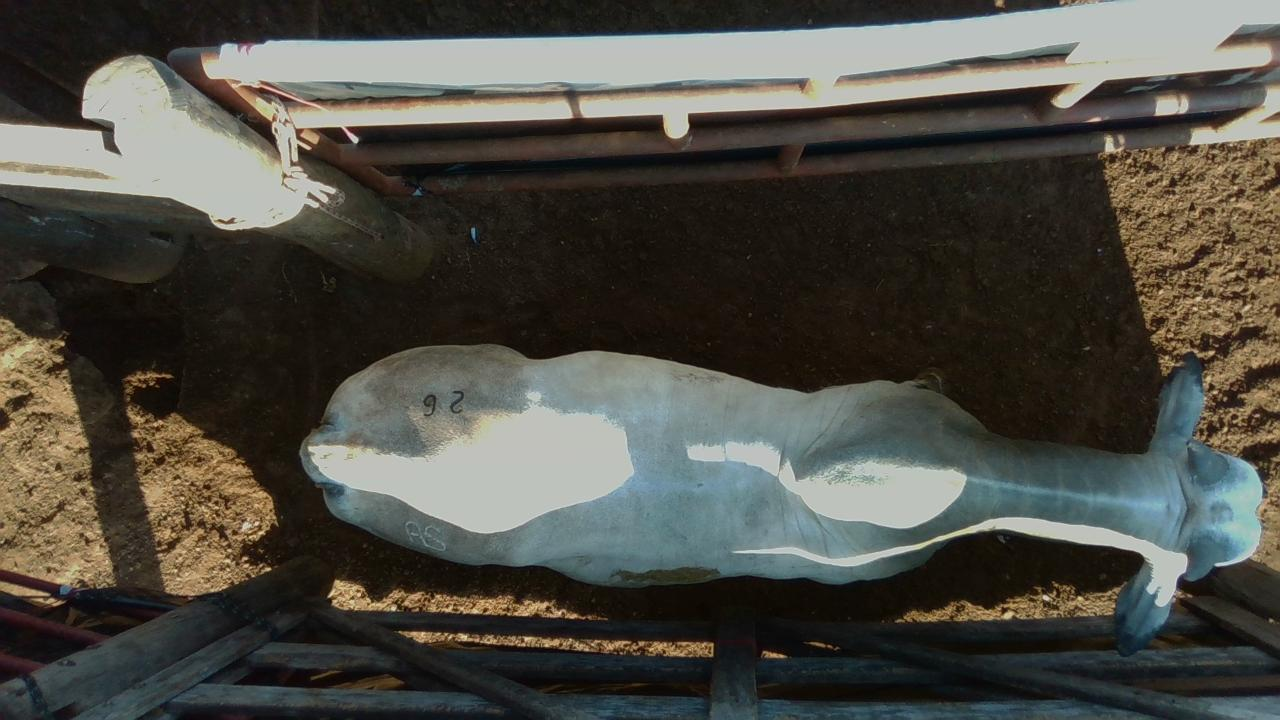cattle: (298, 340, 1264, 656)
